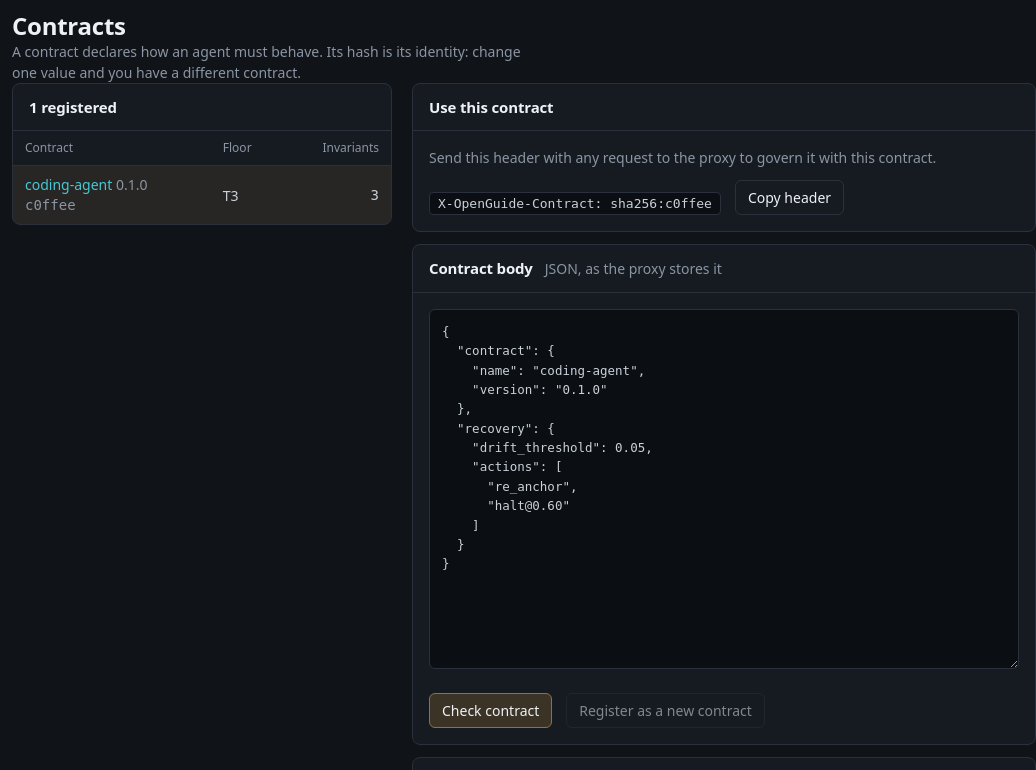
Test: contract registration › a register failure is shown
Expected: the text box named "Contract JSON" is shown, [429,309,1019,669]
Click the button "Check contract": x=491, y=710 [429,693,552,728]
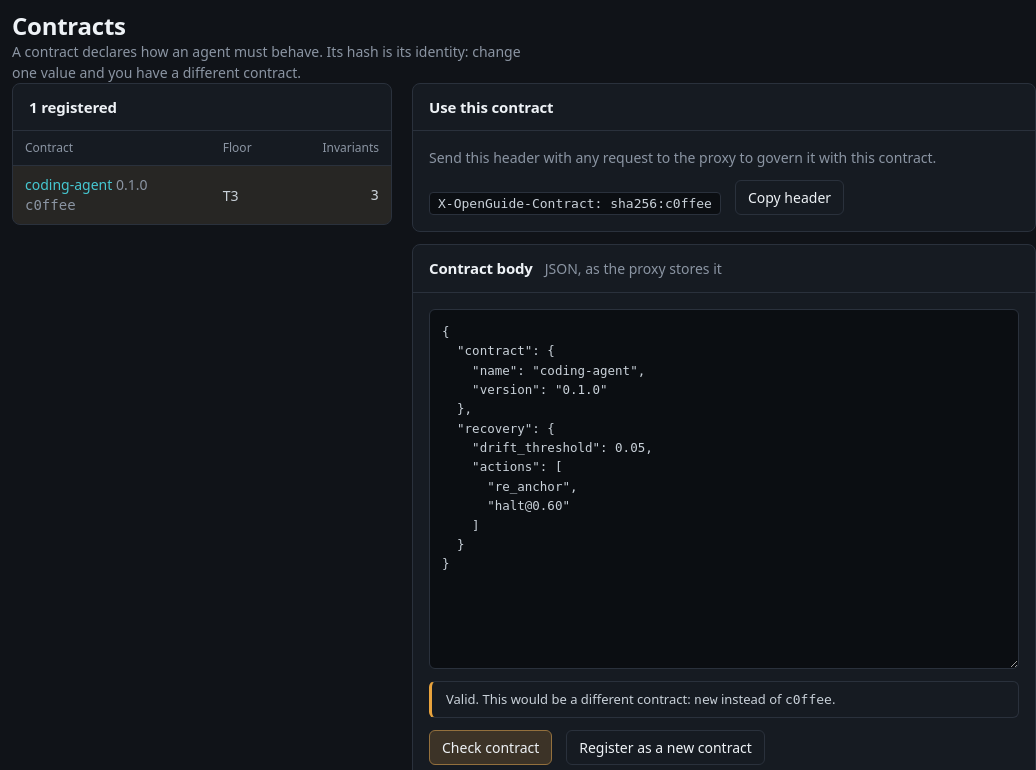
Expected: the text "This would be a different contract" is shown, [482,690,694,708]
Click the button "Register as a new contract": x=666, y=748 [566,730,765,765]
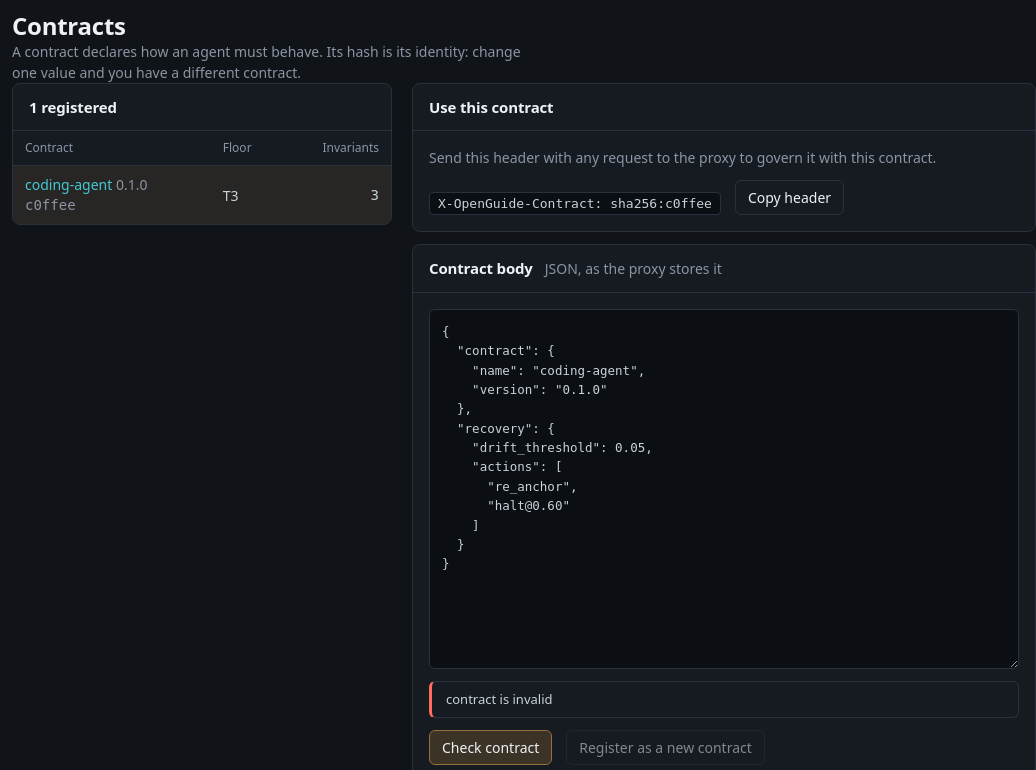
Expected: the text "contract is invalid" is shown, [429,681,1019,718]
